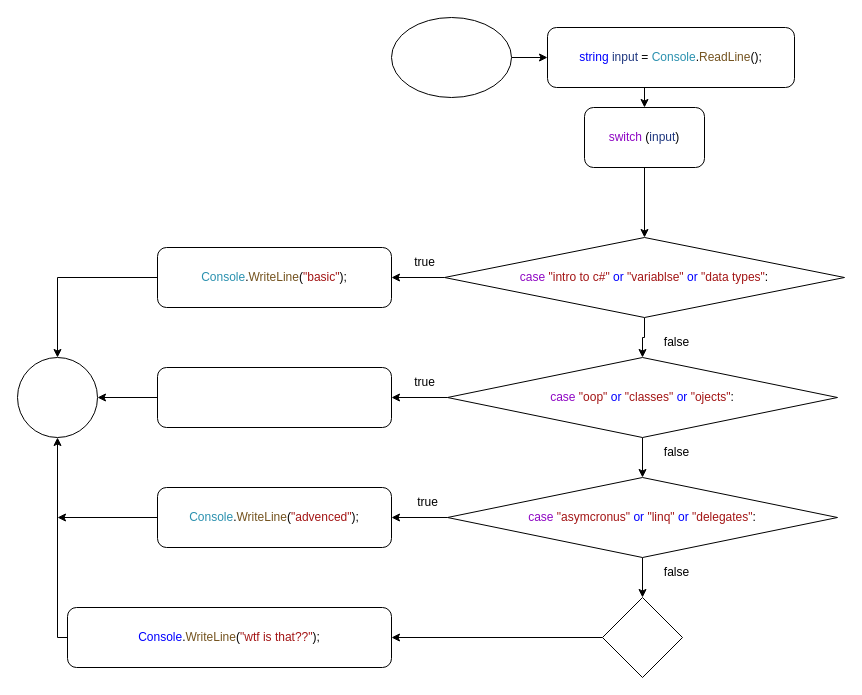
This 862x695 diagram has some shape labels left out. The shapes that lost their labels are listed below. From the top down, each one's centre as x and y in pixels, then its label:
point (451, 57): start
point (57, 397): break ;
point (274, 397): Console . WriteLine ( "intermediate" );
point (642, 637): default :
